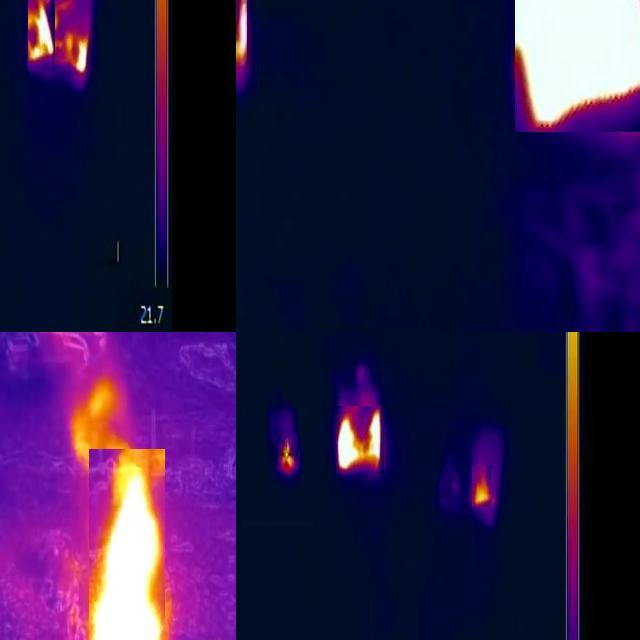fire: (515, 1, 640, 132), (89, 449, 165, 640), (336, 406, 384, 474), (28, 1, 55, 71), (239, 1, 249, 87), (472, 466, 491, 507), (278, 436, 298, 472), (75, 33, 91, 75)
